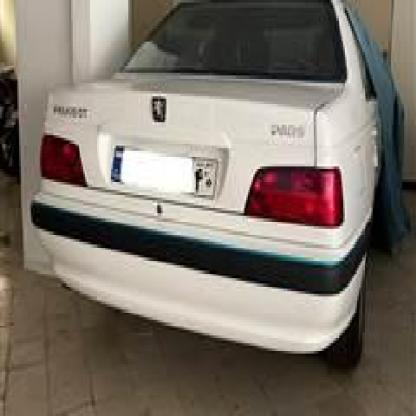Car: (34, 0, 400, 374)
